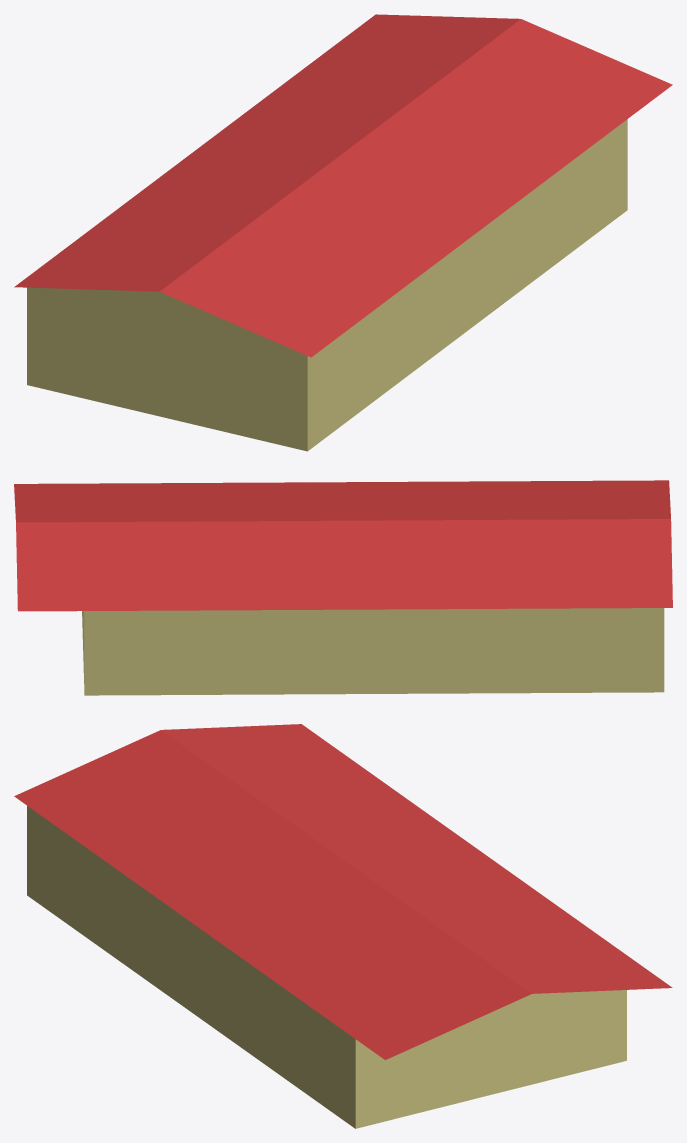
3 renders of one model, top to bottom at view 1: azimuth 30°, elevation 25°; view 2: azimuth 150°, elevation 25°; view 3: azimuth 270°, elevation 25°, orthographic. The views are drawn at different scales.
Size of the model in its own units: 63.62 by 52.69 by 11.21.
